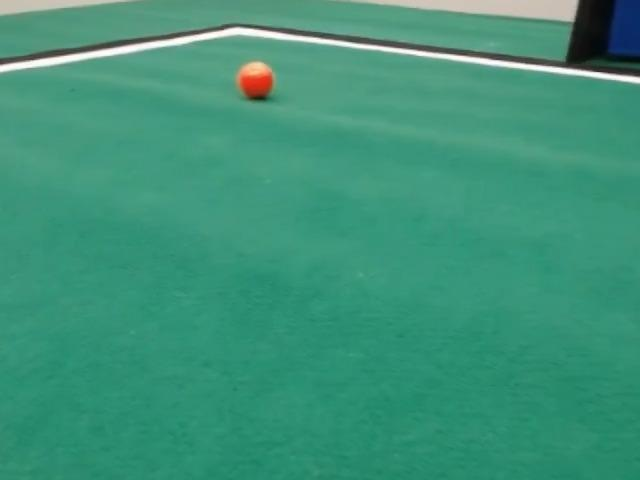Ball: (237, 61, 274, 99)
